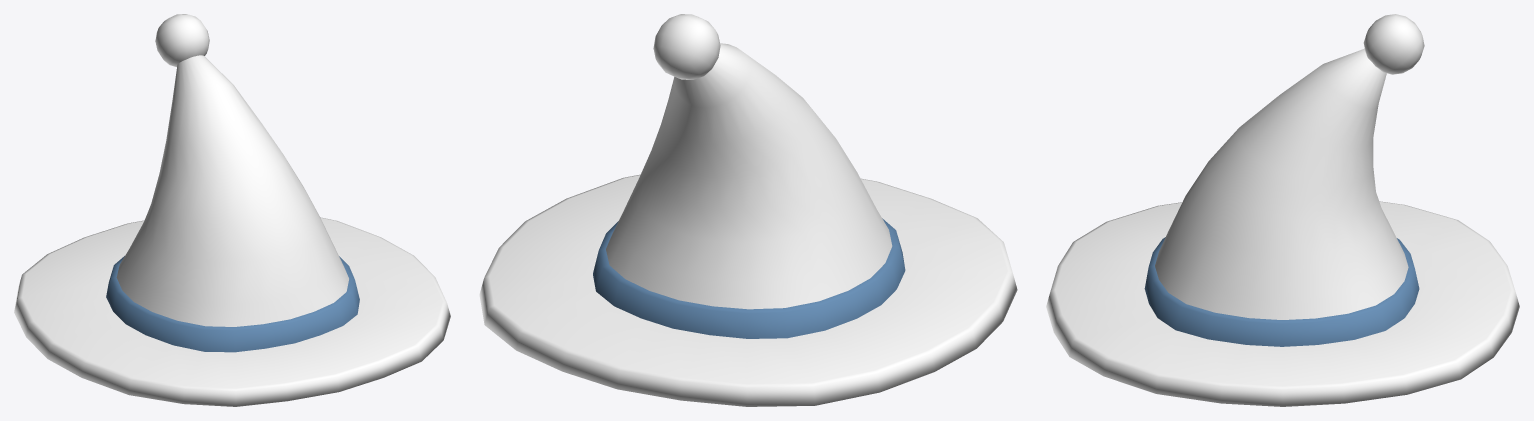
File: magePawn_icehat2.fbx
3 views of the same model, side by side, from view 1: azimuth 30°, elevation 25°; view 2: azimuth 150°, elevation 25°; view 3: azimuth 270°, elevation 25° (orthographic). The views are drawn at different scales.
Parts seen in each view (by area): view 1: wizIceHat2exp; view 2: wizIceHat2exp; view 3: wizIceHat2exp.
Part boxes in pixels (x1=…): wizIceHat2exp: x1=14, y1=14, x2=450, y2=406; wizIceHat2exp: x1=479, y1=14, x2=1017, y2=406; wizIceHat2exp: x1=1046, y1=14, x2=1519, y2=406.
Size of the model in its own units: 235 by 161 by 235.
